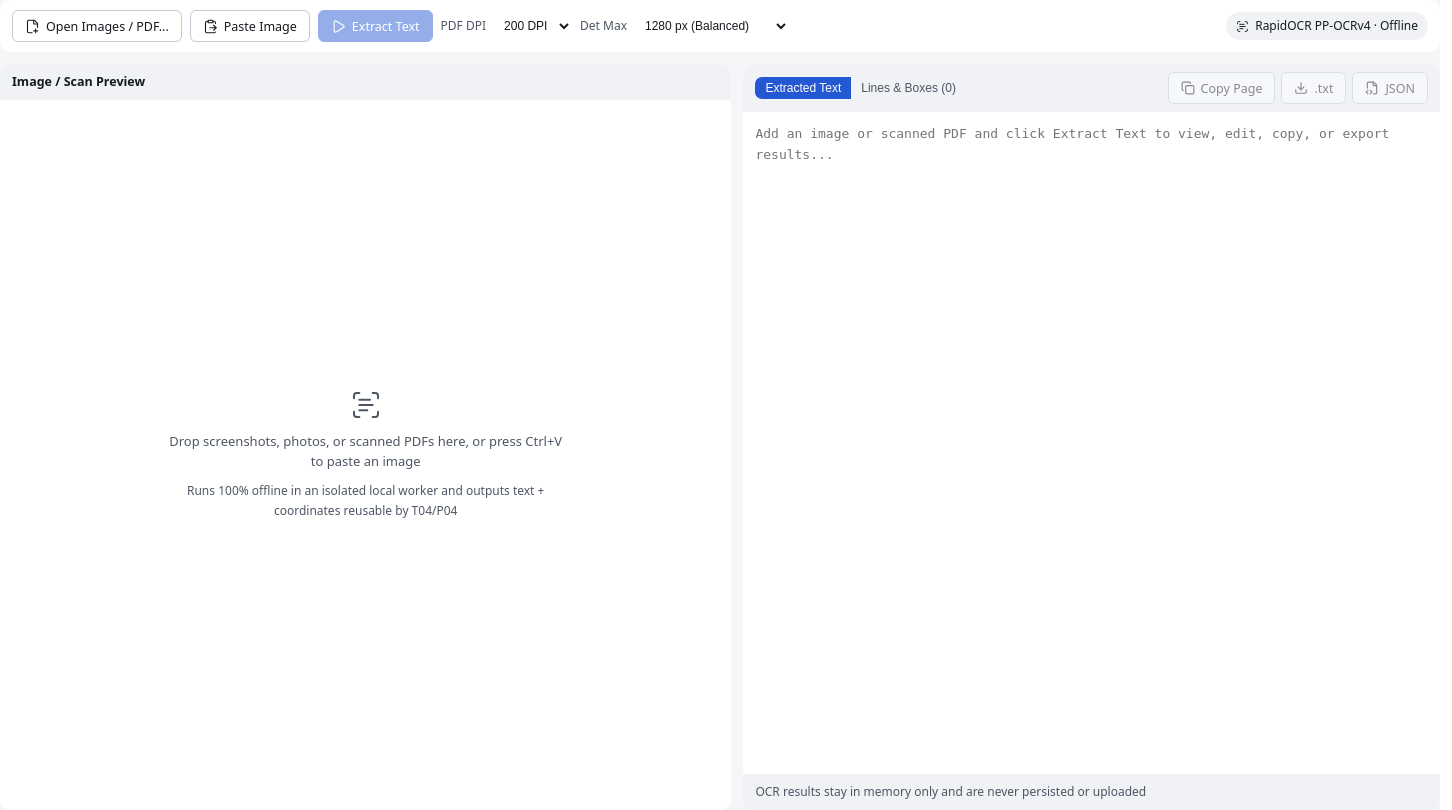
Test: ExtractTextWorkspace (T03) › cancels an in-flight OCR job and reports cancelled status cleanly
Step 1. Click the button "Open Images / PDF..." → coordinates (97, 26), box [12,10,182,42]
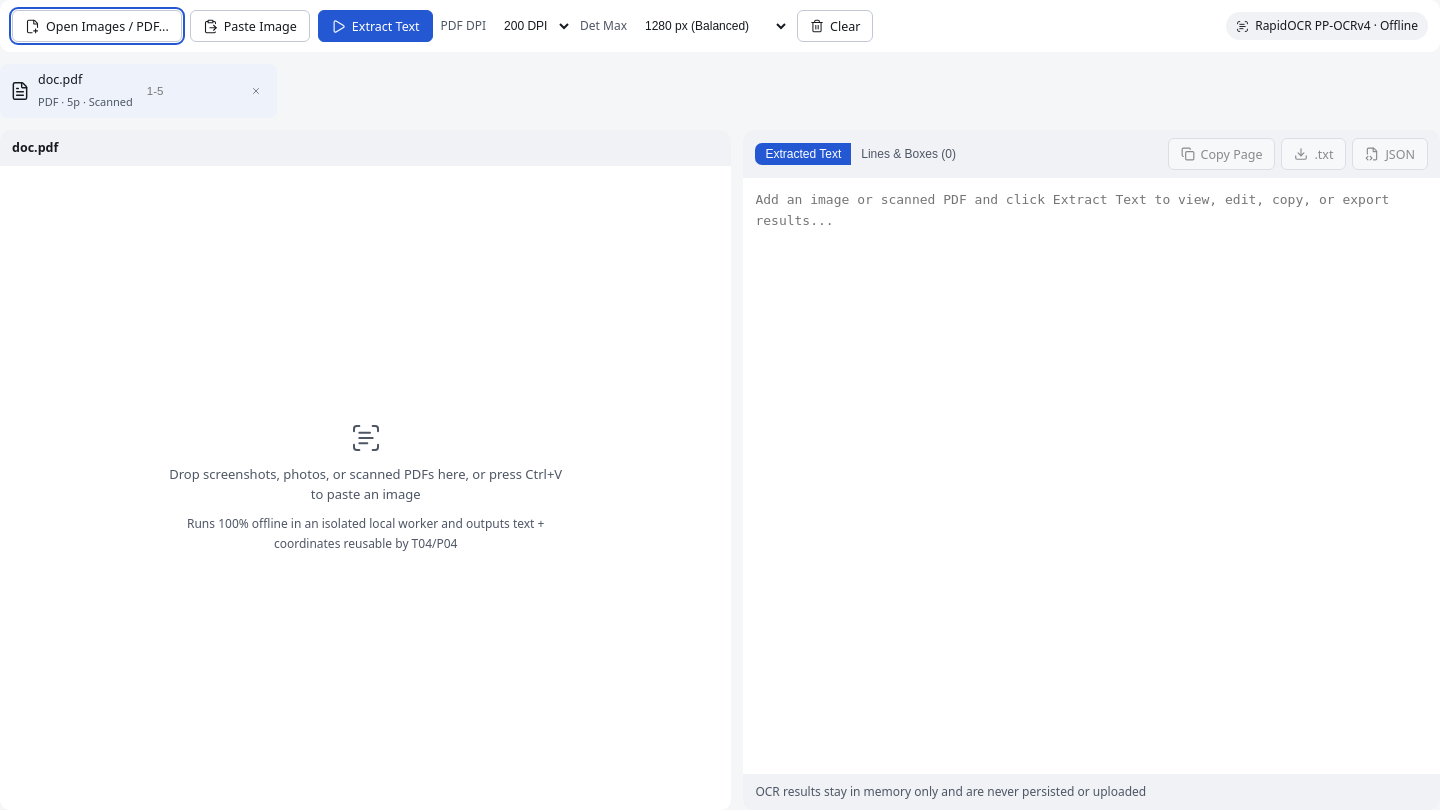
Step 2. Click the button "Extract Text" → coordinates (375, 26), box [318,10,433,42]
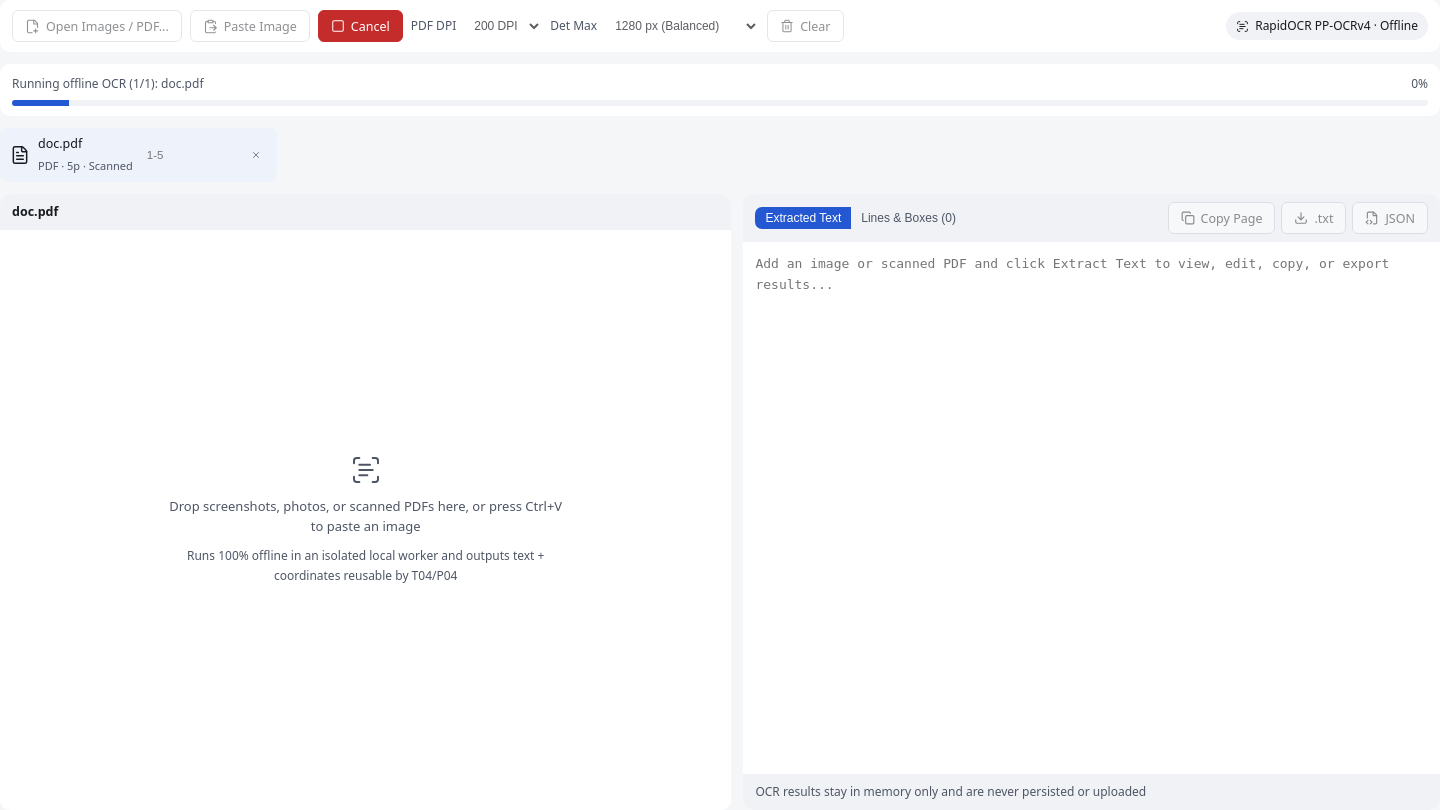
Step 3. Click the button "Cancel" → coordinates (360, 26), box [318,10,403,42]
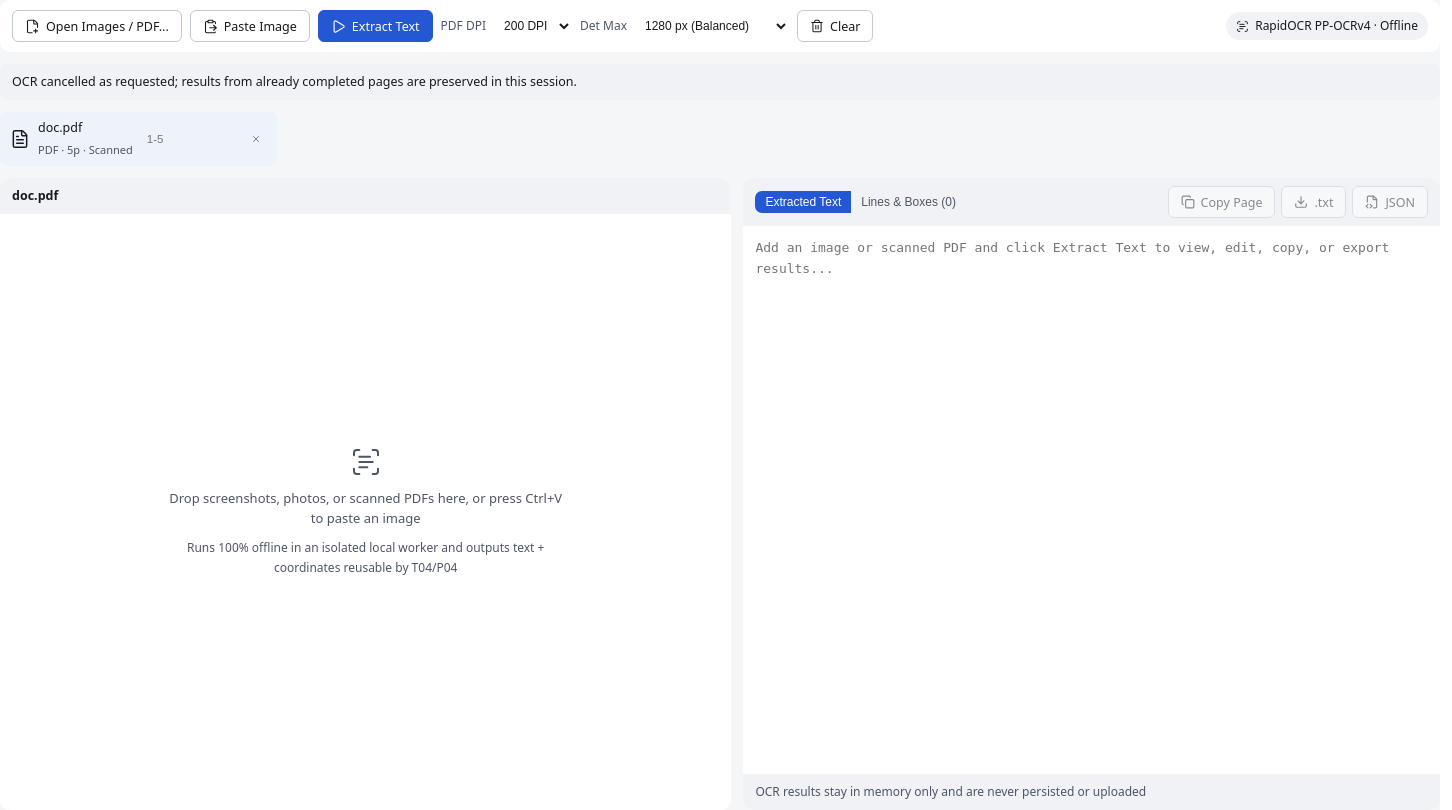
Result: the text "OCR cancelled as requested" is shown at [12,73,577,90]
